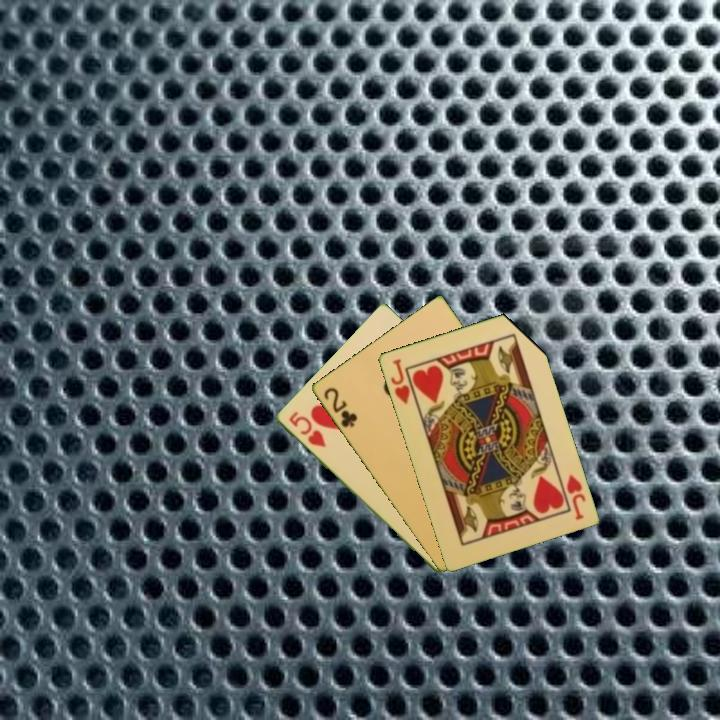2c: (320, 383, 360, 431)
5h: (285, 408, 328, 450)
Jh: (387, 355, 413, 407), (562, 471, 588, 522)
